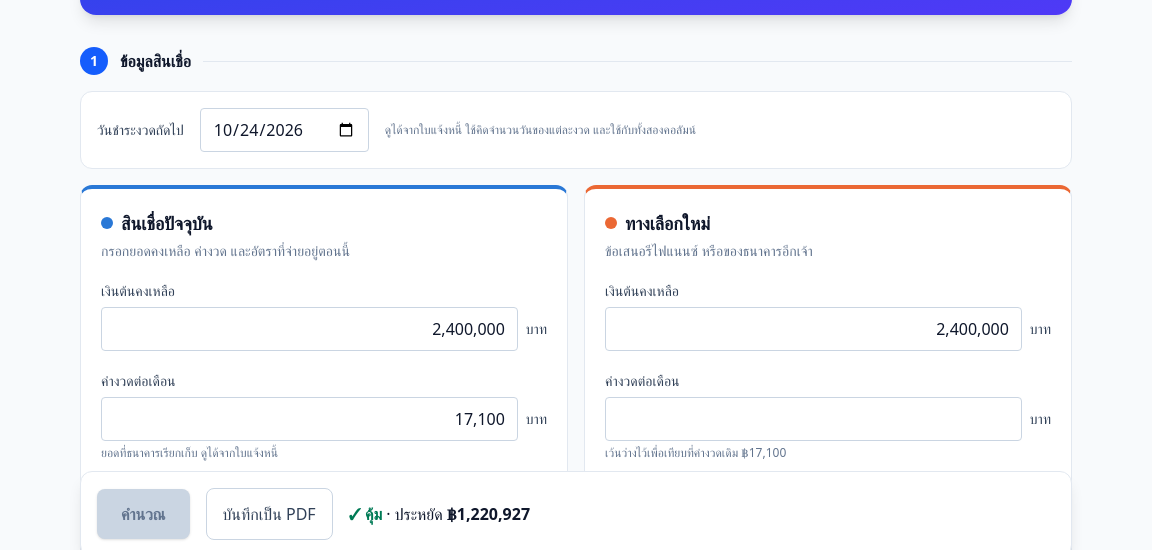
Test: App › dates the schedule from the next payment date entered
In the date field labelled "วันชำระงวดถัดไป": {"x": 284, "y": 130} [200,108,369,152], type "2027-03-31"
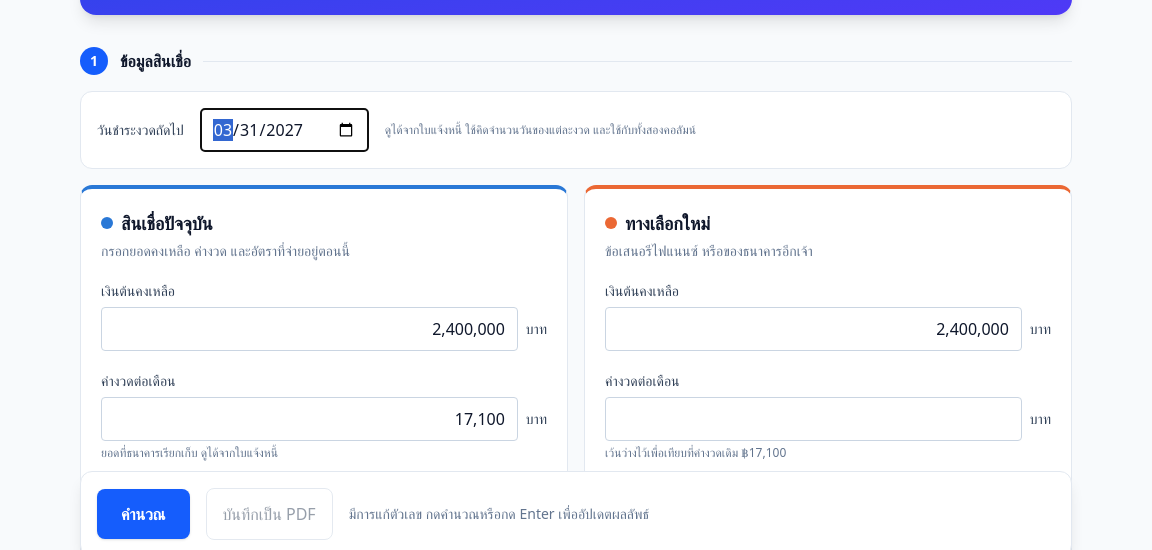
Click the button "คำนวณ": {"x": 143, "y": 514} [97,489,190,539]
(page scrolled)
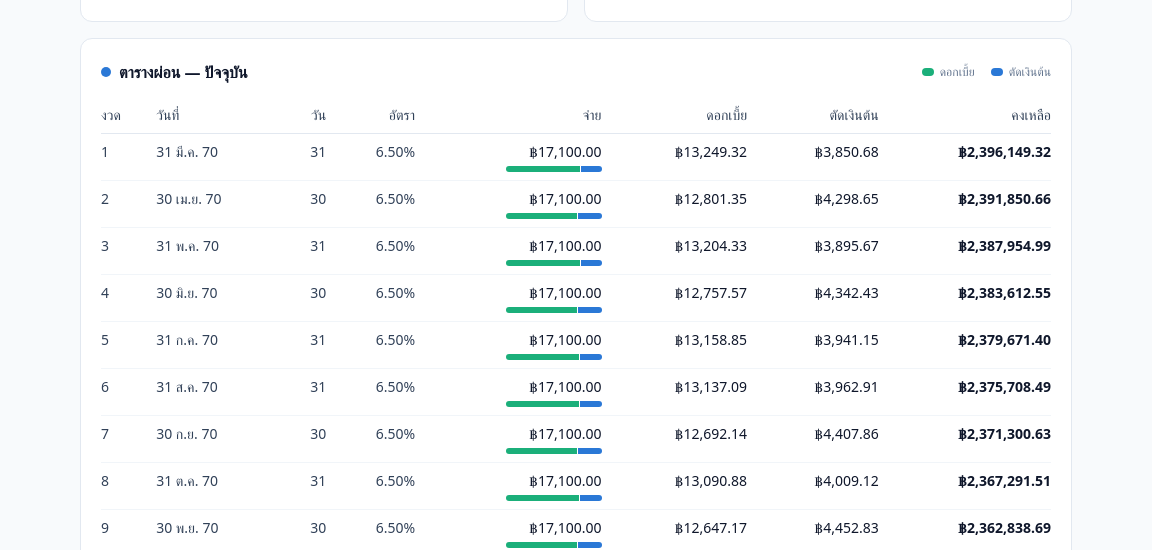
Expected: the row that starts with "31 มี.ค. 70" is shown, [156,142,218,161]
